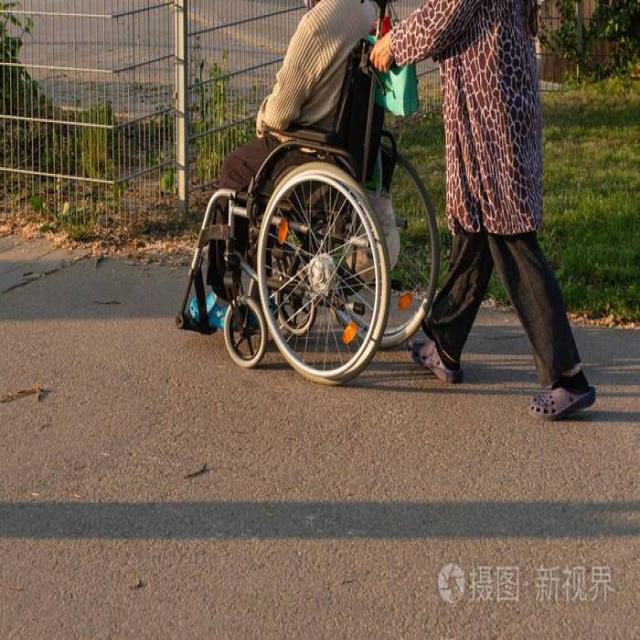wheelchairs: (167, 24, 439, 388)
